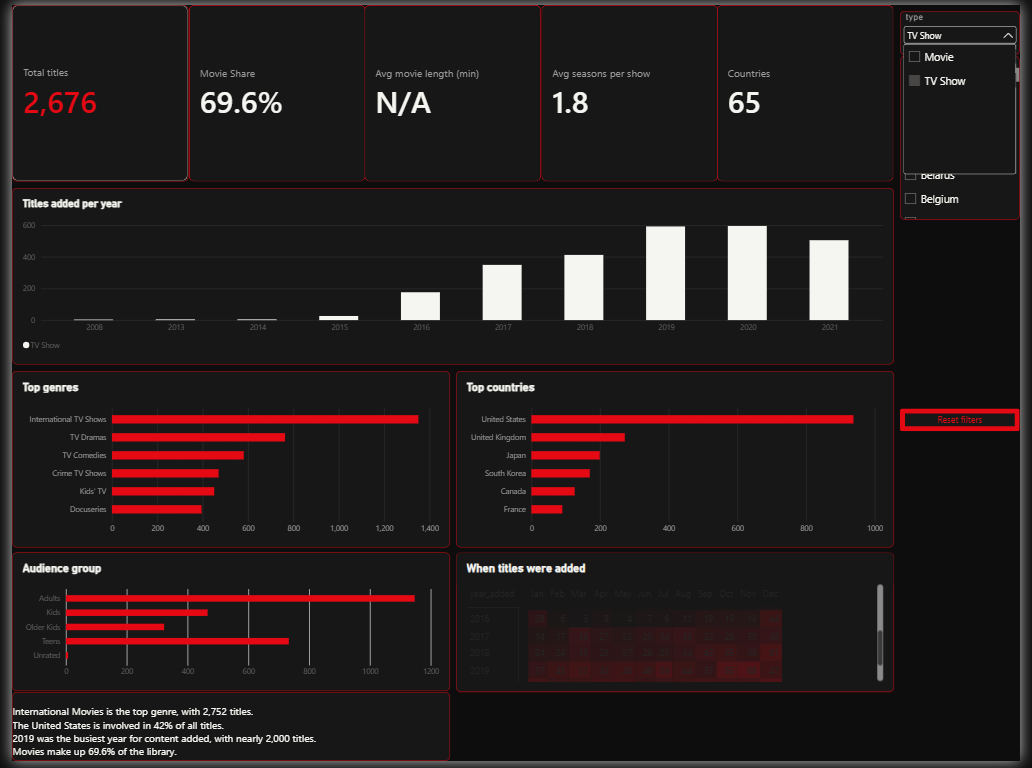

The dashboard page shown, as its layout file describes it:
{"tool":"powerbi","page":{"name":"Page 1","canvas":[1600,1200],"ordinal":0},"visuals":[{"type":"cardVisual","fields":{"Data":["netflix_cleaned.Total Titles Label"]},"box":[0,0,280,280],"z":0},{"type":"cardVisual","fields":{"Data":["netflix_cleaned.Movie Share"]},"box":[280,0,280,280],"z":1000},{"type":"cardVisual","fields":{"Data":["netflix_cleaned.Avg Movie Length"]},"box":[560,0,280,280],"z":2000},{"type":"cardVisual","fields":{"Data":["netflix_cleaned.Avg Seasons"]},"box":[840,0,280,280],"z":3000},{"type":"cardVisual","fields":{"Data":["netflix_cleaned.Countries"]},"box":[1120,0,280,280],"z":4000},{"type":"columnChart","title":" Titles added per year","fields":{"Category":["netflix_cleaned.year_added"],"Y":["netflix_cleaned.Total Titles"],"Series":["netflix_cleaned.type"]},"box":[0,290,1400,280],"z":5000},{"type":"clusteredBarChart","title":"Top genres","fields":{"Category":["netflix_genres.genre"],"Y":["CountNonNull(netflix_genres.show_id)"]},"box":[0,580,695,280],"z":6000},{"type":"clusteredBarChart","title":"Top countries","fields":{"Category":["netflix_countries.country"],"Y":["netflix_countries.Titles by Country"]},"box":[705,580,695,280],"z":7000},{"type":"slicer","fields":{"Values":["netflix_cleaned.type"]},"box":[1410,10,190,70],"z":8000},{"type":"slicer","fields":{"Values":["netflix_countries.country"]},"box":[1410,80,190,260],"z":9000},{"type":"actionButton","box":[1410,640,190,36],"z":9001},{"type":"clusteredBarChart","title":"Audience group","fields":{"Category":["netflix_cleaned.audience_group"],"Y":["netflix_cleaned.Total Titles"]},"box":[0,870,695,220],"z":9002},{"type":"pivotTable","title":"When titles were added","fields":{"Rows":["netflix_cleaned.year_added"],"Columns":["netflix_cleaned.month_name"],"Values":["netflix_cleaned.Total Titles"]},"box":[705,870,695,220],"z":9003},{"type":"textbox","box":[0,1090,1400,110],"z":9004}]}

Visuals, with their boxes on the page's 1600x1200 design canvas (x1, y1, x2, y2). These are canvas units, not pixel positions in the 1032x768 screenshot, which may show the page scaled, cropped or inside an application window:
cardVisual - netflix_cleaned.Total Titles Label: [x1=0, y1=0, x2=280, y2=280]
cardVisual - netflix_cleaned.Movie Share: [x1=280, y1=0, x2=560, y2=280]
cardVisual - netflix_cleaned.Avg Movie Length: [x1=560, y1=0, x2=840, y2=280]
cardVisual - netflix_cleaned.Avg Seasons: [x1=840, y1=0, x2=1120, y2=280]
cardVisual - netflix_cleaned.Countries: [x1=1120, y1=0, x2=1400, y2=280]
" Titles added per year" columnChart: [x1=0, y1=290, x2=1400, y2=570]
"Top genres" clusteredBarChart: [x1=0, y1=580, x2=695, y2=860]
"Top countries" clusteredBarChart: [x1=705, y1=580, x2=1400, y2=860]
slicer - netflix_cleaned.type: [x1=1410, y1=10, x2=1600, y2=80]
slicer - netflix_countries.country: [x1=1410, y1=80, x2=1600, y2=340]
actionButton: [x1=1410, y1=640, x2=1600, y2=676]
"Audience group" clusteredBarChart: [x1=0, y1=870, x2=695, y2=1090]
"When titles were added" pivotTable: [x1=705, y1=870, x2=1400, y2=1090]
textbox: [x1=0, y1=1090, x2=1400, y2=1200]
